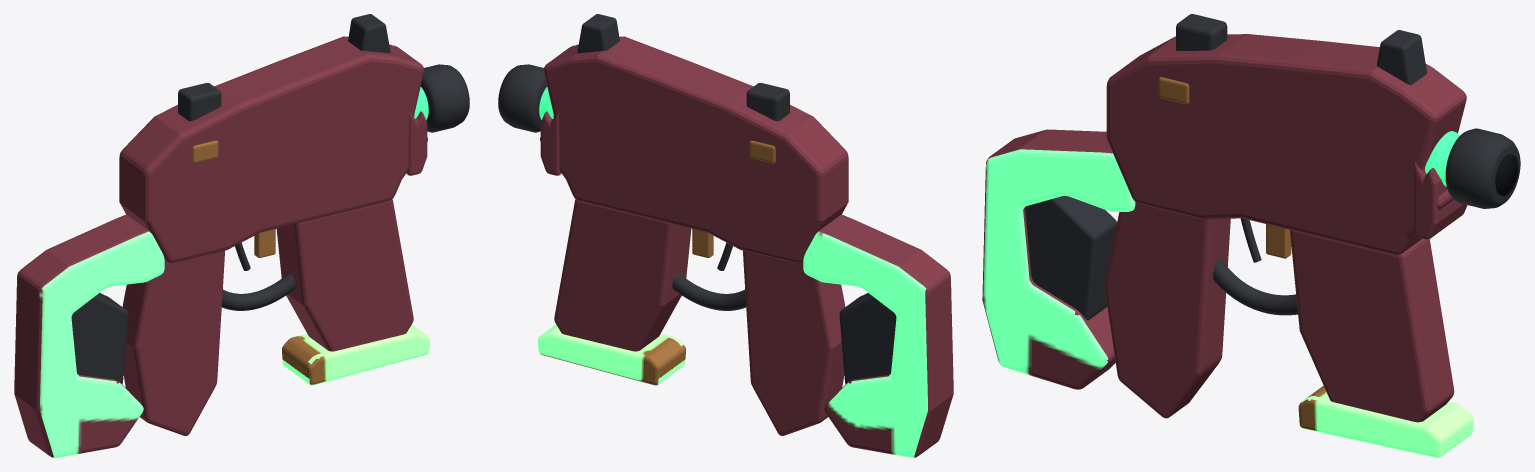
The picture shows the model from 3 angles, left to right: view 1: azimuth 30°, elevation 25°; view 2: azimuth 150°, elevation 25°; view 3: azimuth 330°, elevation 25°; orthographic projection. The views are drawn at different scales.
Visible parts, largest first — view 1: gun.receiver__LOD0, gun.stock__LOD0, gun.magazine__LOD0, gun.grip__LOD0, gun.magazine_base__LOD0, gun.stock_insert__LOD0, gun.muzzle_device__LOD0, gun.trigger_guard__LOD0, gun.front_sight__LOD0, gun.rear_sight__LOD0, gun.front_housing__LOD0, gun.control_lever__LOD0 (+1 smaller); view 2: gun.receiver__LOD0, gun.stock__LOD0, gun.magazine__LOD0, gun.grip__LOD0, gun.magazine_base__LOD0, gun.stock_insert__LOD0, gun.muzzle_device__LOD0, gun.trigger_guard__LOD0, gun.front_sight__LOD0, gun.rear_sight__LOD0, gun.front_housing__LOD0, gun.control_lever__LOD0 (+1 smaller); view 3: gun.receiver__LOD0, gun.magazine__LOD0, gun.stock__LOD0, gun.grip__LOD0, gun.stock_insert__LOD0, gun.magazine_base__LOD0, gun.muzzle_device__LOD0, gun.front_housing__LOD0, gun.front_sight__LOD0, gun.trigger_guard__LOD0, gun.rear_sight__LOD0, gun.barrel__LOD0 (+3 smaller).
Part boxes in pixels (x1=…): gun.receiver__LOD0: x1=119, y1=36, x2=427, y2=262; gun.stock__LOD0: x1=14, y1=214, x2=164, y2=457; gun.magazine__LOD0: x1=276, y1=199, x2=413, y2=351; gun.grip__LOD0: x1=122, y1=250, x2=225, y2=435; gun.magazine_base__LOD0: x1=282, y1=324, x2=429, y2=385; gun.stock_insert__LOD0: x1=71, y1=293, x2=128, y2=384; gun.muzzle_device__LOD0: x1=420, y1=64, x2=469, y2=132; gun.trigger_guard__LOD0: x1=221, y1=272, x2=295, y2=310; gun.front_sight__LOD0: x1=348, y1=14, x2=390, y2=53; gun.rear_sight__LOD0: x1=178, y1=83, x2=221, y2=121; gun.front_housing__LOD0: x1=406, y1=111, x2=427, y2=175; gun.control_lever__LOD0: x1=254, y1=229, x2=275, y2=257; gun.receiver__LOD0: x1=540, y1=36, x2=848, y2=262; gun.stock__LOD0: x1=803, y1=214, x2=953, y2=457; gun.magazine__LOD0: x1=554, y1=199, x2=691, y2=351; gun.grip__LOD0: x1=742, y1=250, x2=845, y2=435; gun.magazine_base__LOD0: x1=538, y1=324, x2=685, y2=385; gun.stock_insert__LOD0: x1=839, y1=293, x2=896, y2=384; gun.muzzle_device__LOD0: x1=498, y1=64, x2=547, y2=132; gun.trigger_guard__LOD0: x1=672, y1=272, x2=746, y2=310; gun.front_sight__LOD0: x1=577, y1=14, x2=619, y2=53; gun.rear_sight__LOD0: x1=746, y1=83, x2=789, y2=121; gun.front_housing__LOD0: x1=540, y1=111, x2=561, y2=175; gun.control_lever__LOD0: x1=692, y1=229, x2=713, y2=257; gun.receiver__LOD0: x1=1106, y1=34, x2=1466, y2=255; gun.magazine__LOD0: x1=1290, y1=230, x2=1454, y2=422; gun.stock__LOD0: x1=982, y1=129, x2=1135, y2=389; gun.grip__LOD0: x1=1104, y1=202, x2=1230, y2=418; gun.stock_insert__LOD0: x1=1025, y1=196, x2=1116, y2=320; gun.magazine_base__LOD0: x1=1298, y1=386, x2=1473, y2=457; gun.muzzle_device__LOD0: x1=1445, y1=128, x2=1520, y2=208; gun.front_housing__LOD0: x1=1414, y1=161, x2=1467, y2=239; gun.front_sight__LOD0: x1=1376, y1=30, x2=1426, y2=84; gun.trigger_guard__LOD0: x1=1213, y1=258, x2=1297, y2=315; gun.rear_sight__LOD0: x1=1176, y1=14, x2=1227, y2=51; gun.barrel__LOD0: x1=1425, y1=131, x2=1459, y2=186.
Bounding box in the file's own units: 2.93 × 2.34 × 0.38.
